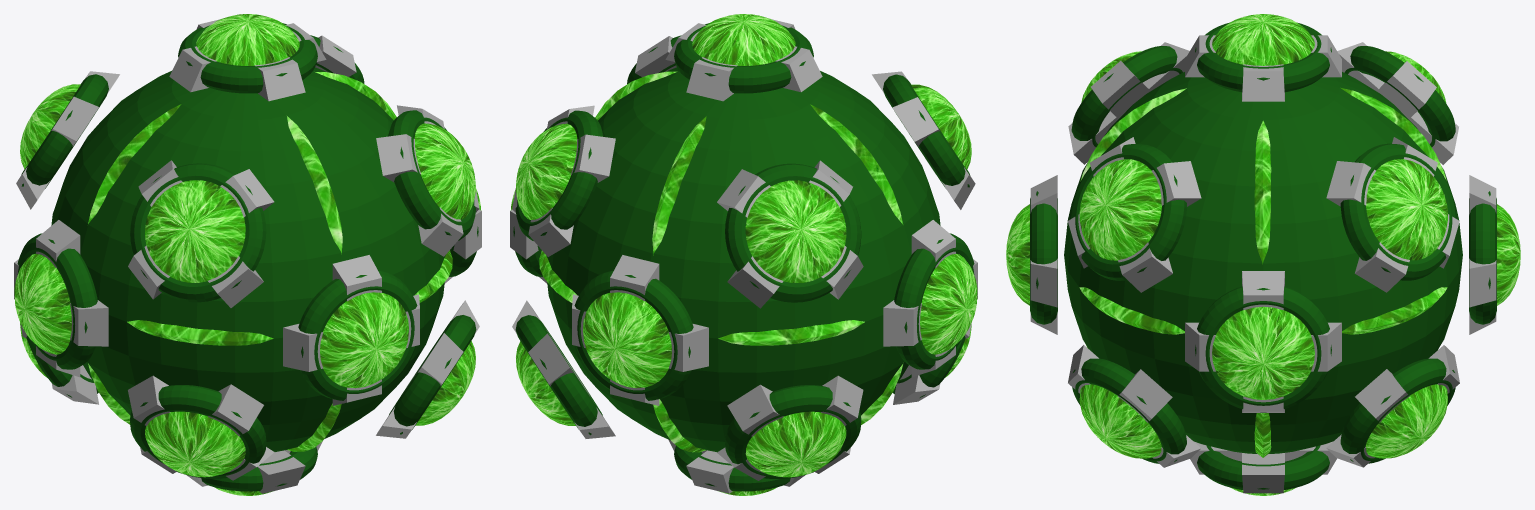
File: bombgreen.glb
The picture shows the model from 3 angles, left to right: view 1: azimuth 30°, elevation 25°; view 2: azimuth 150°, elevation 25°; view 3: azimuth 270°, elevation 25°; orthographic projection.
Parts seen in each view (by area): view 1: Sphere.001, Sphere.012, Sphere.006, Sphere.013, Torus.011, Sphere.003, Torus.005, Sphere.004, Sphere.010, Torus.012, Torus.002, Torus.003 (+33 smaller); view 2: Sphere.001, Sphere.008, Sphere.005, Sphere.009, Torus.007, Sphere.003, Torus.004, Sphere.004, Sphere.014, Torus.008, Torus.002, Torus.003 (+33 smaller); view 3: Sphere.001, Sphere.002, Sphere.010, Sphere.014, Torus.001, Sphere.004, Torus.009, Torus.013, Sphere.011, Sphere.007, Torus.003, Torus.010 (+36 smaller).
Part boxes in pixels (<box>): Sphere.001: <box>51,67,445,451</box>; Sphere.012: <box>145,180,245,282</box>; Sphere.006: <box>320,292,408,388</box>; Sphere.013: <box>145,411,245,477</box>; Torus.011: <box>130,163,266,302</box>; Sphere.003: <box>14,253,71,354</box>; Torus.005: <box>298,270,420,400</box>; Sphere.004: <box>196,14,299,65</box>; Sphere.010: <box>414,123,475,219</box>; Torus.012: <box>130,385,266,478</box>; Torus.002: <box>17,233,97,369</box>; Torus.003: <box>178,23,317,93</box>; Sphere.001: <box>546,67,940,452</box>; Sphere.008: <box>745,180,846,282</box>; Sphere.005: <box>583,292,671,388</box>; Sphere.009: <box>745,411,846,477</box>; Torus.007: <box>725,163,861,302</box>; Sphere.003: <box>920,253,977,354</box>; Torus.004: <box>571,270,693,400</box>; Sphere.004: <box>692,14,795,65</box>; Sphere.014: <box>516,123,577,219</box>; Torus.008: <box>725,385,861,478</box>; Torus.002: <box>894,233,974,369</box>; Torus.003: <box>674,23,813,93</box>; Sphere.001: <box>1064,72,1462,453</box>; Sphere.002: <box>1212,306,1314,399</box>; Sphere.010: <box>1079,159,1161,260</box>; Sphere.014: <box>1366,159,1447,260</box>; Torus.001: <box>1195,286,1331,412</box>; Sphere.004: <box>1212,14,1314,65</box>; Torus.009: <box>1071,143,1186,280</box>; Torus.013: <box>1340,143,1456,280</box>; Sphere.011: <box>1365,384,1447,458</box>; Sphere.007: <box>1079,384,1161,458</box>; Torus.003: <box>1195,22,1331,92</box>; Torus.010: <box>1340,358,1455,463</box>.
Size of the model in its own units: 9.11 by 9.11 by 9.11.
4 materials, 2 textured.
